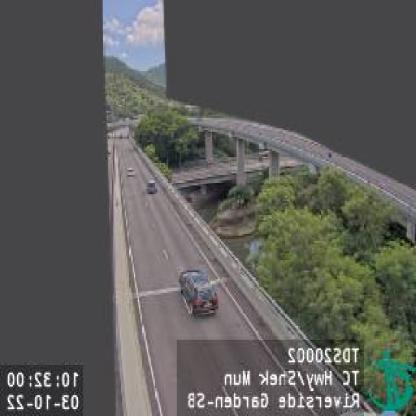Car: (182, 268, 218, 315), (148, 180, 158, 194)
